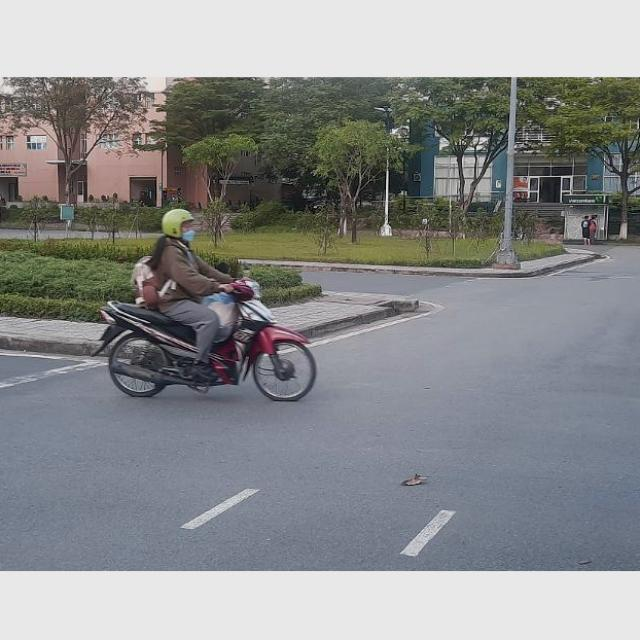Helmet: (160, 208, 197, 242)
